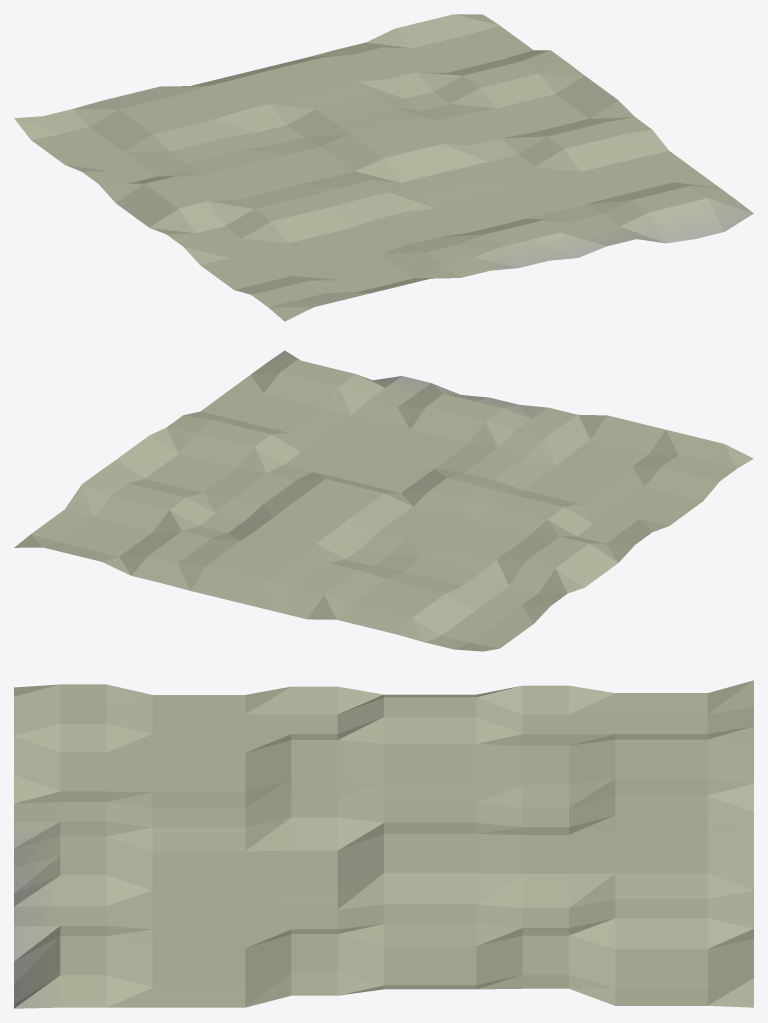
3 views of the same model, one above another, from view 1: azimuth 30°, elevation 25°; view 2: azimuth 150°, elevation 25°; view 3: azimuth 270°, elevation 25° (orthographic). The views are drawn at different scales.
Bounding box in the file's own units: 32 × 1.68 × 32.
